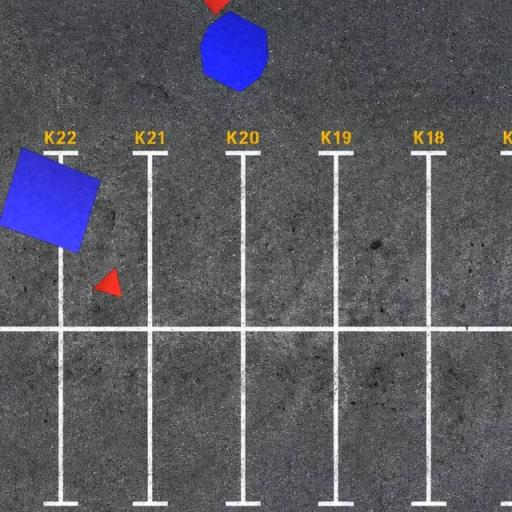BLUE_SQUARE: (0, 146, 102, 254)
